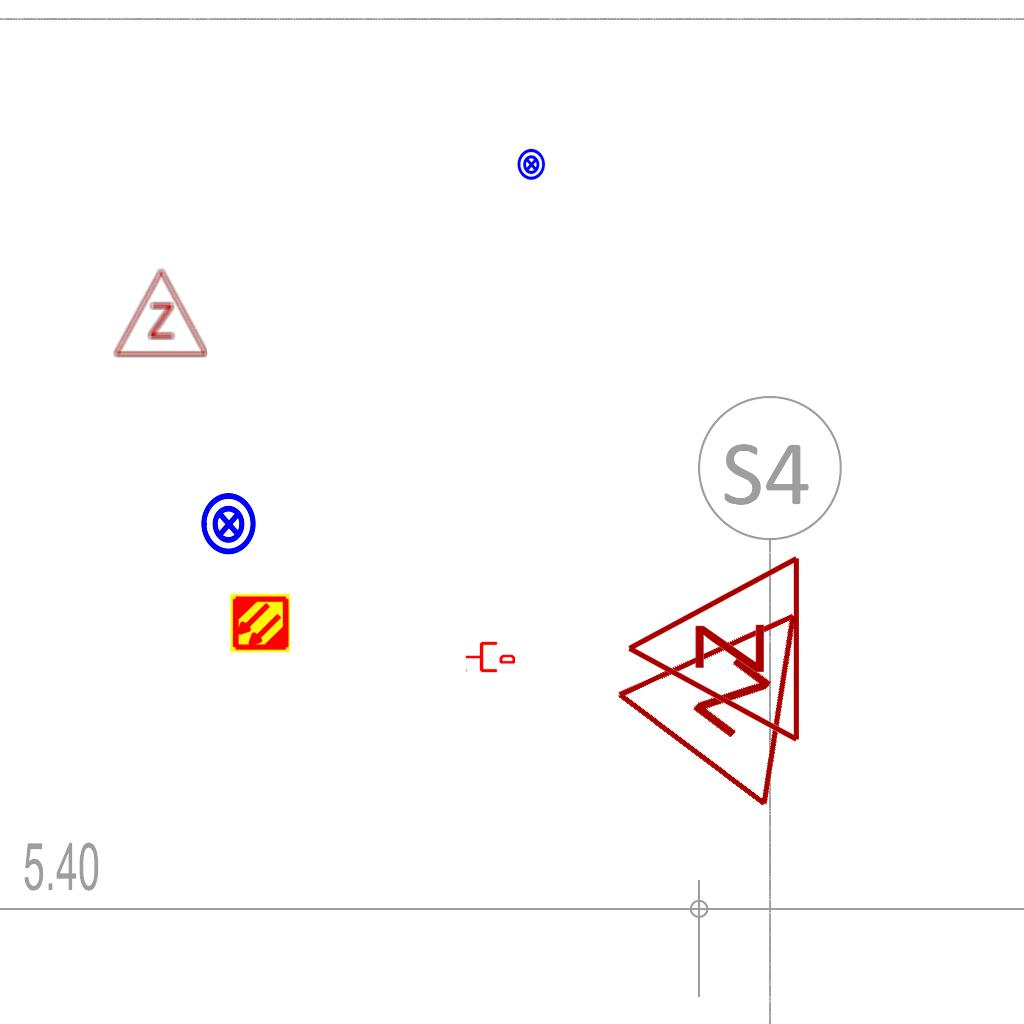ASR_Ansaugrauchmelder: (229, 592, 291, 654)
Datenanschluss_einfach: (465, 640, 515, 674)
Taster_beleuchtet: (196, 491, 262, 557), (515, 148, 548, 181)
Zimmersignalleuchte: (601, 543, 879, 821), (614, 553, 814, 749), (111, 263, 209, 363)
